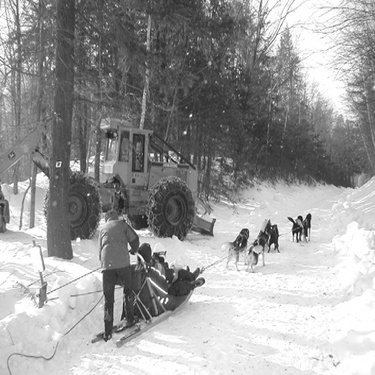dog: (226, 220, 252, 271), (246, 227, 268, 269), (260, 220, 282, 256), (286, 210, 304, 242), (301, 210, 312, 242)
